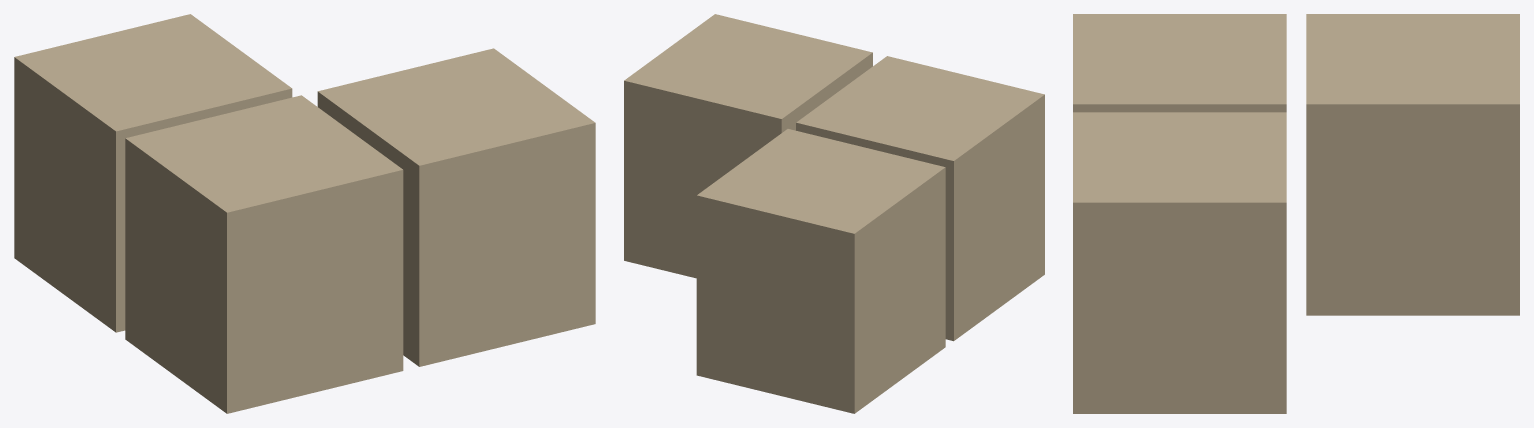
The model's file is rhine-crates_lod0.glb.
3 views of the same model, side by side, from view 1: azimuth 30°, elevation 25°; view 2: azimuth 150°, elevation 25°; view 3: azimuth 270°, elevation 25° (orthographic). The views are drawn at different scales.
Parts seen in each view (by area): view 1: RF_Crate.001, RF_Crate.002, RF_Crate; view 2: RF_Crate, RF_Crate.001, RF_Crate.002; view 3: RF_Crate.002, RF_Crate, RF_Crate.001.
Boxes of the visible parts, box(x1,y1,x2,y2) form: RF_Crate.001: box(125, 95, 403, 413); RF_Crate.002: box(317, 48, 595, 366); RF_Crate: box(14, 14, 292, 332); RF_Crate: box(696, 129, 945, 413); RF_Crate.001: box(796, 56, 1044, 341); RF_Crate.002: box(624, 14, 872, 278); RF_Crate.002: box(1073, 112, 1286, 413); RF_Crate: box(1306, 14, 1519, 315); RF_Crate.001: box(1073, 14, 1286, 112).
Bounding box in the file's own units: 2.3 × 1.2 × 2.3.
